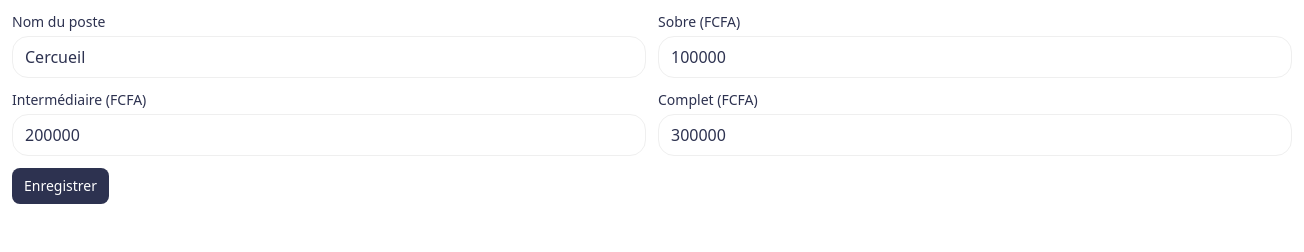
Test: LineForm › shows a lines-specific error
Click the button "Enregistrer". click: (60, 186)
box: [12,168,109,204]
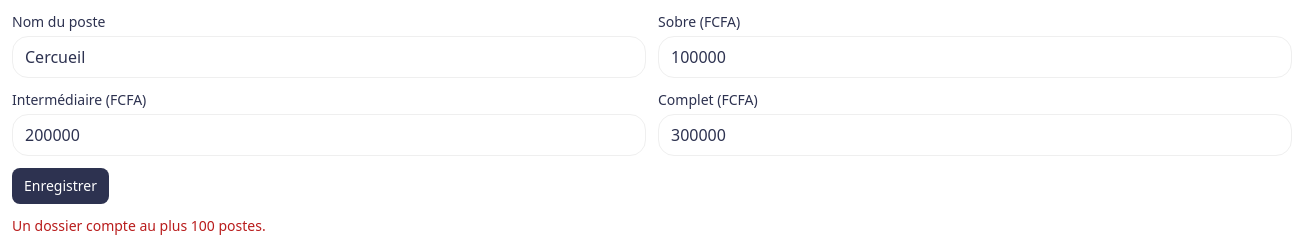
Expected: the message reads "Un dossier compte au plus 100 postes.", [12,216,266,235]
